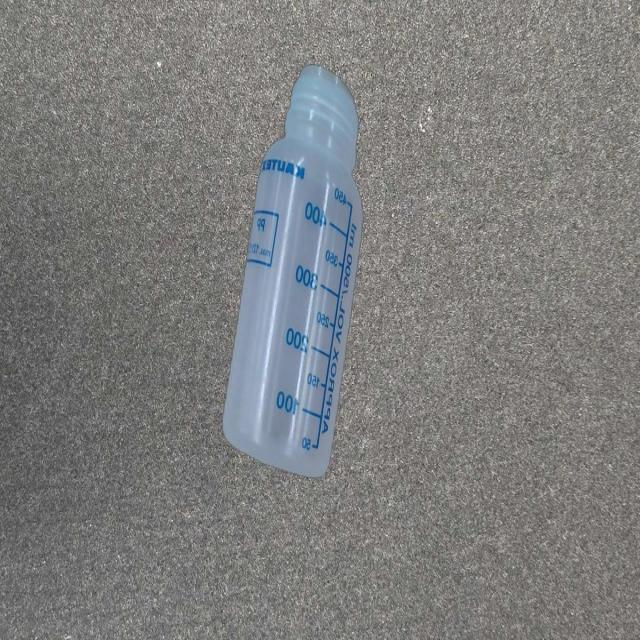bottle: (220, 60, 366, 481)
